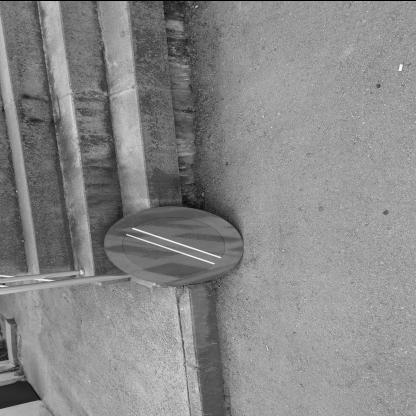No Waiting: (106, 207, 245, 285)
